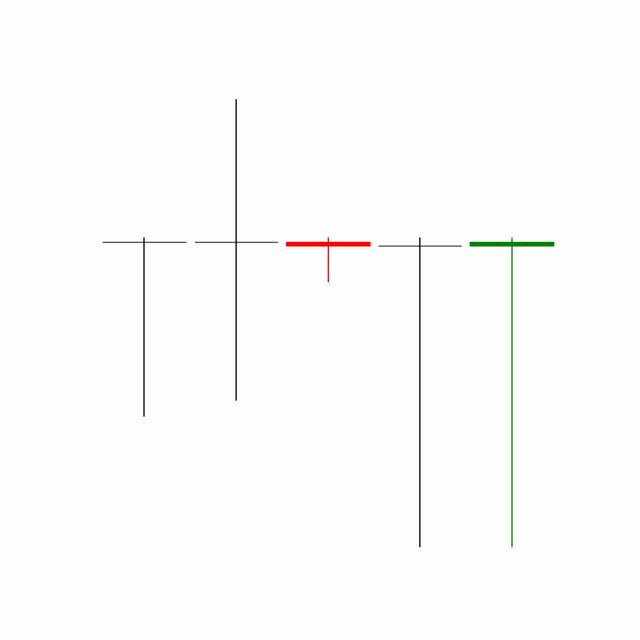Dragonfly Doji: (373, 234, 467, 550)
